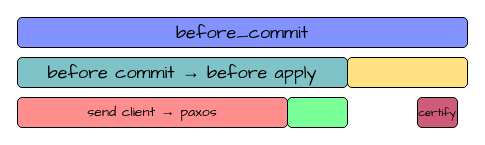
Image size: 485x145. Some labels were removed from this diagram. Each missing label, with the centre of its shape:
paxos: point (317, 112)
paxos->apply: point (407, 72)
